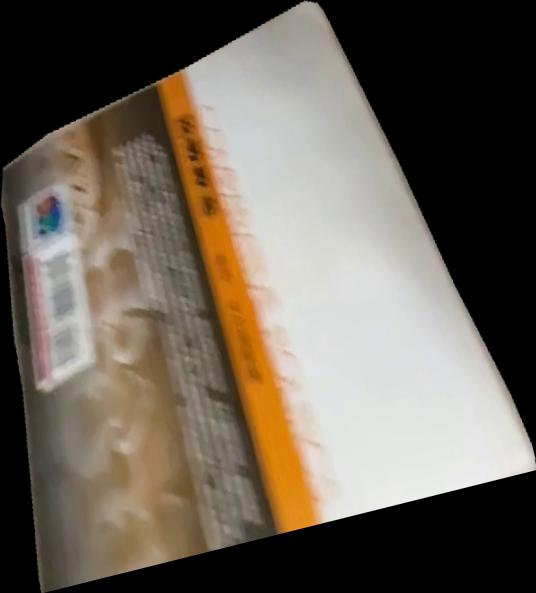flat: (1, 1, 536, 593)
